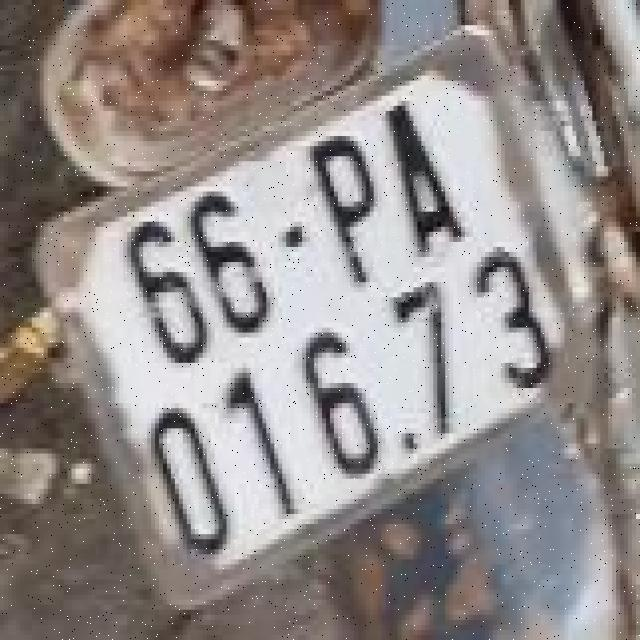0: (129, 383, 249, 582)
1: (215, 351, 314, 538)
3: (457, 222, 568, 407)
6: (283, 314, 392, 493), (117, 202, 223, 386), (176, 172, 283, 351)
7: (377, 265, 480, 454)
A: (371, 77, 482, 276)
P: (296, 118, 404, 300)
